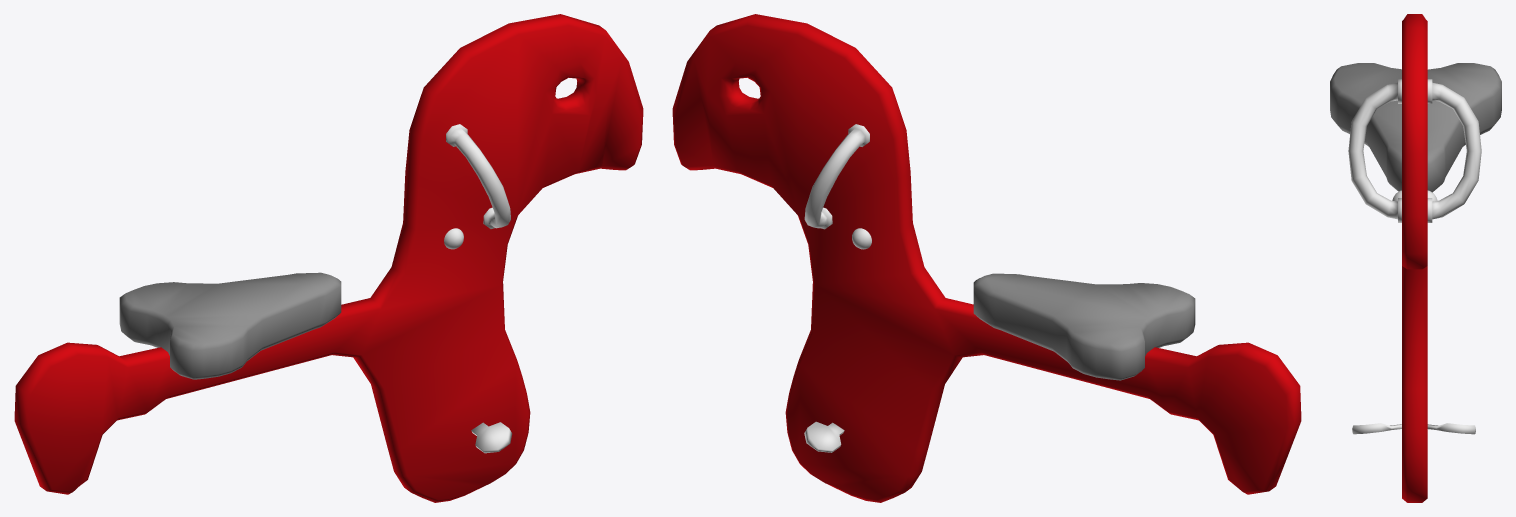
The model's file is Chicken.fbx.
3 renders of one model, left to right at view 1: azimuth 30°, elevation 25°; view 2: azimuth 150°, elevation 25°; view 3: azimuth 270°, elevation 25°, orthographic. The views are drawn at different scales.
Parts seen in each view (by area): view 1: Plane.001; view 2: Plane.001; view 3: Plane.001.
Boxes of the visible parts, <box> form: Plane.001: <box>14,14,643,502</box>; Plane.001: <box>672,14,1301,502</box>; Plane.001: <box>1330,14,1501,502</box>.
Bounding box in the file's own units: 820 × 575 × 181.
